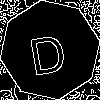D: (25, 25, 69, 76)
